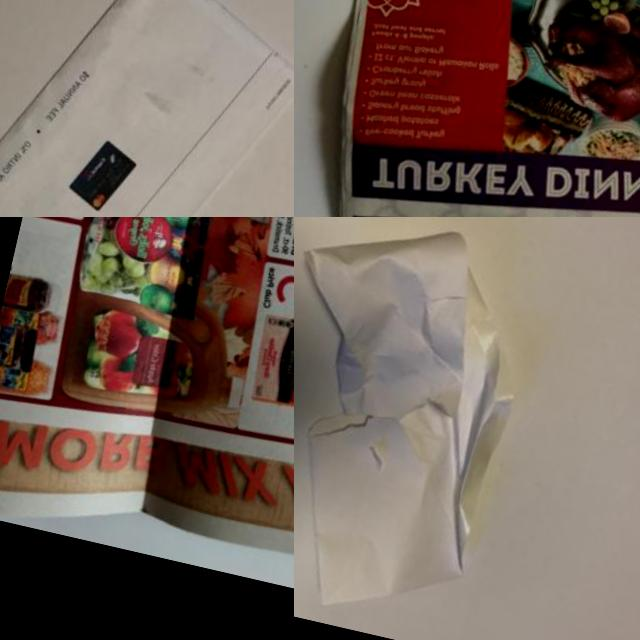papel: (0, 217, 294, 640), (294, 217, 547, 639), (294, 0, 640, 217), (0, 0, 294, 217)
